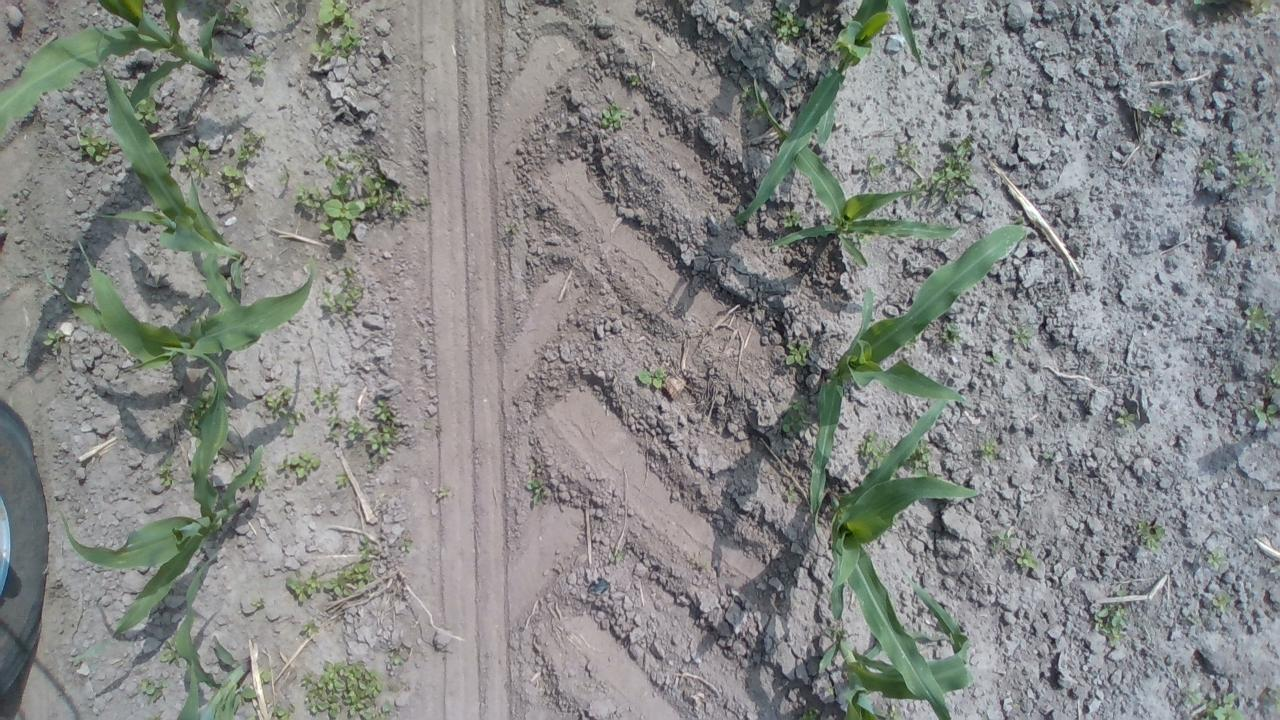Maize: (812, 222, 1030, 546), (56, 342, 265, 664), (827, 400, 986, 720), (751, 75, 961, 268), (92, 34, 247, 292), (40, 236, 317, 376), (733, 0, 891, 225), (0, 0, 221, 151), (816, 571, 974, 720), (166, 552, 252, 720), (810, 0, 926, 73)
Weeds: (300, 660, 390, 720), (318, 172, 366, 240), (932, 136, 974, 204), (183, 382, 216, 449), (264, 386, 305, 437), (1092, 590, 1128, 646), (310, 31, 362, 63), (902, 437, 941, 479), (326, 562, 374, 596), (771, 2, 806, 44), (286, 568, 326, 602), (858, 428, 888, 472), (320, 284, 362, 314), (178, 141, 210, 178), (780, 396, 811, 434), (278, 452, 320, 480), (78, 127, 111, 161), (1202, 694, 1244, 720), (740, 82, 768, 120), (318, 0, 356, 28), (368, 425, 398, 456), (1137, 520, 1166, 552), (362, 174, 388, 209), (132, 95, 160, 124), (238, 131, 264, 162), (292, 184, 324, 209), (600, 102, 628, 128), (228, 1, 254, 29), (157, 456, 179, 488), (785, 342, 811, 368), (894, 140, 918, 168), (1244, 305, 1270, 330), (311, 386, 338, 410), (140, 679, 170, 700), (390, 186, 411, 216), (200, 0, 227, 23), (638, 368, 666, 390), (1014, 546, 1040, 569), (246, 53, 268, 79), (1233, 148, 1264, 166), (1206, 547, 1229, 571), (1146, 100, 1169, 124), (160, 638, 180, 665), (372, 398, 394, 422), (1253, 403, 1278, 424), (346, 415, 366, 441), (249, 463, 268, 490), (866, 153, 886, 178), (979, 436, 998, 462), (234, 684, 258, 704), (338, 152, 364, 170), (909, 178, 928, 202), (526, 478, 544, 503), (975, 62, 992, 88), (1212, 593, 1234, 613), (782, 207, 802, 228), (1116, 408, 1136, 429), (43, 329, 64, 349), (941, 322, 960, 344), (1012, 326, 1034, 344), (222, 164, 246, 180), (996, 530, 1015, 550), (272, 703, 294, 720), (358, 534, 372, 560), (318, 154, 337, 172), (339, 265, 356, 285), (1266, 360, 1280, 384), (1199, 158, 1217, 176), (1249, 0, 1272, 14), (826, 626, 848, 640), (903, 332, 920, 350), (299, 620, 318, 636), (800, 705, 820, 720), (783, 484, 798, 503), (1184, 688, 1200, 705), (228, 182, 246, 197), (1191, 0, 1215, 11), (852, 232, 872, 245), (234, 460, 247, 478), (1258, 167, 1274, 181), (1170, 118, 1186, 132), (1232, 173, 1250, 185), (258, 669, 272, 684), (888, 704, 901, 720), (336, 471, 349, 487), (391, 653, 406, 666), (610, 550, 626, 562), (120, 82, 132, 98), (628, 73, 642, 86), (985, 354, 1002, 364), (366, 458, 378, 472), (326, 414, 338, 427), (1275, 687, 1280, 716), (416, 197, 432, 206), (324, 431, 340, 440), (438, 487, 451, 498), (988, 538, 998, 552), (1186, 614, 1200, 622), (814, 15, 824, 26), (404, 539, 412, 552), (180, 303, 190, 313), (826, 684, 834, 696), (250, 599, 262, 607), (1016, 215, 1025, 224), (504, 224, 514, 232), (280, 176, 288, 184), (1042, 452, 1052, 458), (246, 715, 258, 720)
